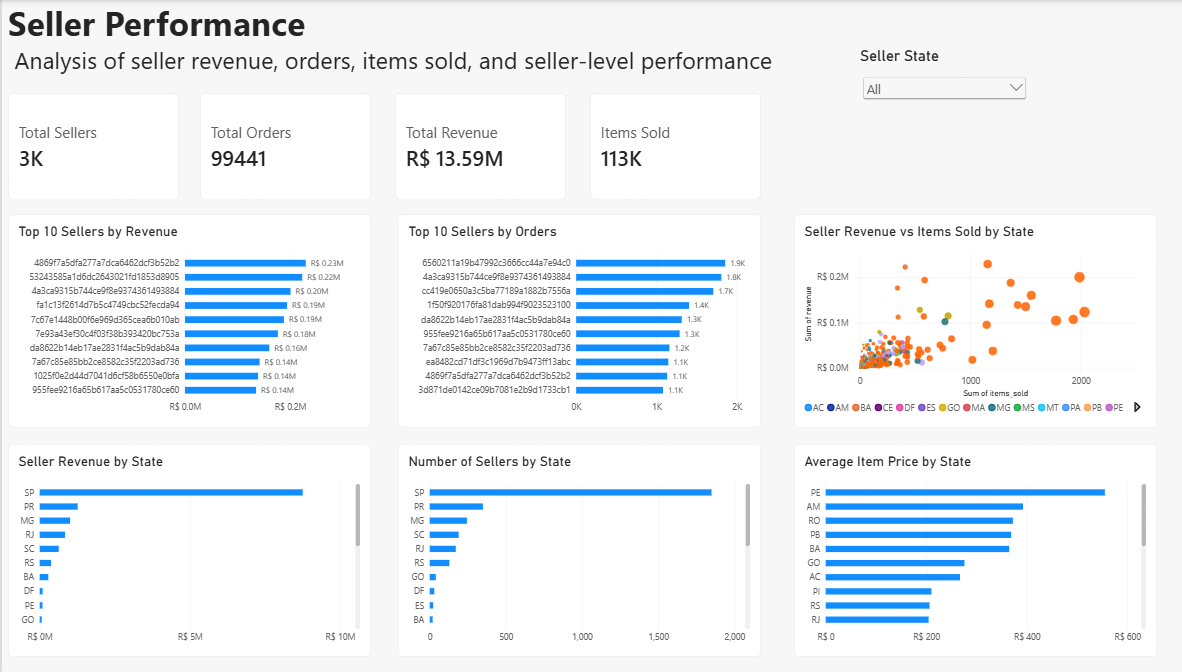

The dashboard page shown, as its layout file describes it:
{"tool":"powerbi","page":{"name":"Seller Performance","canvas":[1920,1080],"ordinal":3},"visuals":[{"type":"textbox","box":[10,0,1277.5,147.5],"z":0},{"type":"cardVisual","fields":{"Data":["public vw_seller_performance.Total Sellers"]},"box":[9.6,148.6,273,170],"z":1000},{"type":"cardVisual","fields":{"Data":["Sum(public vw_total_orders.total_orders)"]},"box":[316.3,148.6,273,170],"z":2000},{"type":"cardVisual","fields":{"Data":["Sum(public vw_seller_performance.revenue)"]},"box":[627.9,148.6,273,170],"z":3000},{"type":"cardVisual","fields":{"Data":["Sum(public vw_seller_performance.items_sold)"]},"box":[939.4,148.6,273,170],"z":4000},{"type":"clusteredBarChart","title":"Top 10 Sellers by Revenue","fields":{"Category":["public vw_seller_performance.seller_id"],"Y":["Sum(public vw_seller_performance.revenue)"]},"box":[9.6,342.7,580,340],"z":5000},{"type":"clusteredBarChart","title":"Top 10 Sellers by Orders","fields":{"Category":["public vw_seller_performance.seller_id"],"Y":["Sum(public vw_seller_performance.orders)"]},"box":[632.7,342.7,580,340],"z":6000},{"type":"scatterChart","title":"Seller Revenue vs Items Sold by State","fields":{"X":["Sum(public vw_seller_performance.items_sold)"],"Y":["Sum(public vw_seller_performance.revenue)"],"Size":["Sum(public vw_seller_performance.orders)"],"Series":["public vw_seller_performance.seller_state"],"Category":["public vw_seller_performance.seller_id"]},"box":[1265.4,342.7,580,340],"z":7000},{"type":"clusteredBarChart","title":"Seller Revenue by State","fields":{"Category":["public vw_seller_performance.seller_state"],"Y":["Sum(public vw_seller_performance.revenue)"]},"box":[9.6,709.4,580,340],"z":8000},{"type":"clusteredBarChart","title":"Number of Sellers by State","fields":{"Category":["public vw_seller_performance.seller_state"],"Y":["Count(public vw_seller_performance.seller_id)"]},"box":[632.7,709.4,580,340],"z":9000},{"type":"clusteredBarChart","title":"Average Item Price by State","fields":{"Y":["Avg(public vw_seller_performance.average_item_price)"],"Category":["public vw_seller_performance.seller_state"]},"box":[1265.4,709.4,580,340.3],"z":10000},{"type":"slicer","title":"Seller State","fields":{"Values":["public vw_seller_performance.seller_state"]},"box":[1370,75,270,125],"z":11000}]}

Visuals, with their boxes in screenshot pixels (x1, y1, x2, y2), scaled from the page's 1920x1080 canvas onto the 1182x672 screenshot:
textbox: 6/0/793/92
cardVisual - public vw_seller_performance.Total Sellers: 6/92/174/198
cardVisual - Sum(public vw_total_orders.total_orders): 195/92/363/198
cardVisual - Sum(public vw_seller_performance.revenue): 387/92/555/198
cardVisual - Sum(public vw_seller_performance.items_sold): 578/92/746/198
"Top 10 Sellers by Revenue" clusteredBarChart: 6/213/363/425
"Top 10 Sellers by Orders" clusteredBarChart: 390/213/747/425
"Seller Revenue vs Items Sold by State" scatterChart: 779/213/1136/425
"Seller Revenue by State" clusteredBarChart: 6/441/363/653
"Number of Sellers by State" clusteredBarChart: 390/441/747/653
"Average Item Price by State" clusteredBarChart: 779/441/1136/653
"Seller State" slicer: 843/47/1010/124
